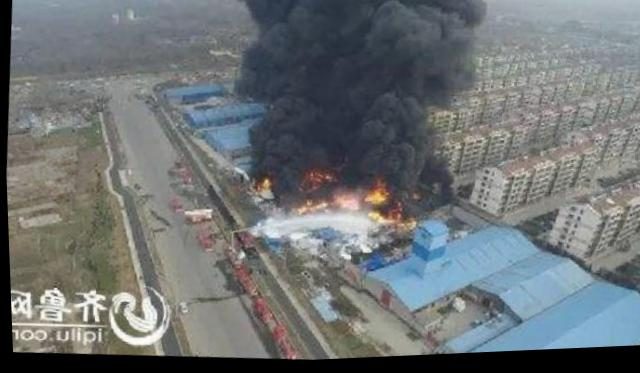fire: (365, 185, 390, 204), (258, 178, 272, 190)
smoke: (213, 0, 500, 191)
